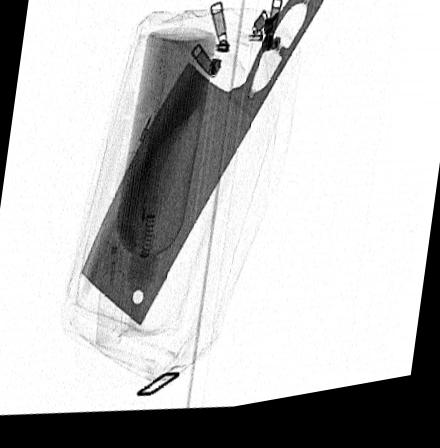Knife: (80, 0, 327, 330)
